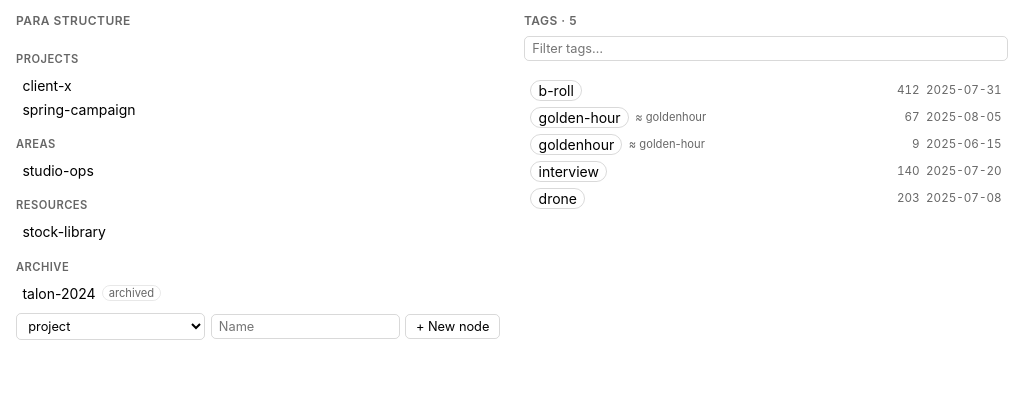
Test: a refused merge renders the service's own remedy, verbatim
Click the button "goldenhour ≈ golden-hour 9 2025-06-15".
click(576, 144)  # box [524,131,1008,158]
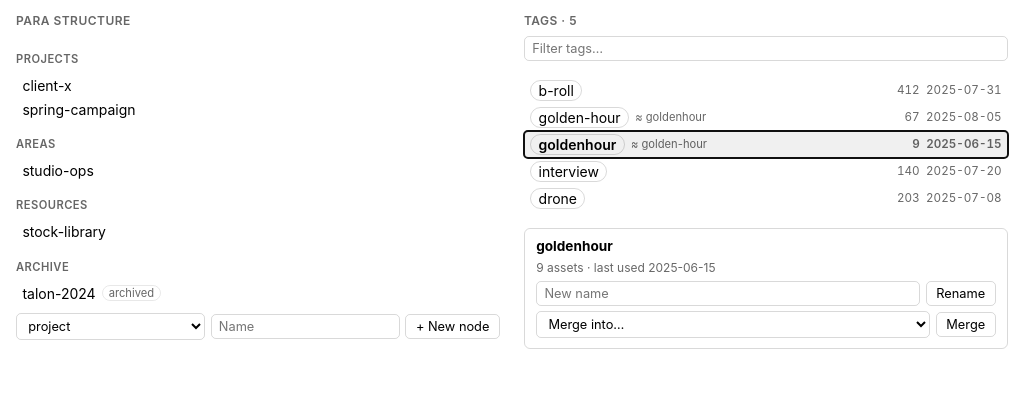
Select "golden-hour" in the dropdown named "Merge into" at x=733, y=325, box [536,311,930,338]
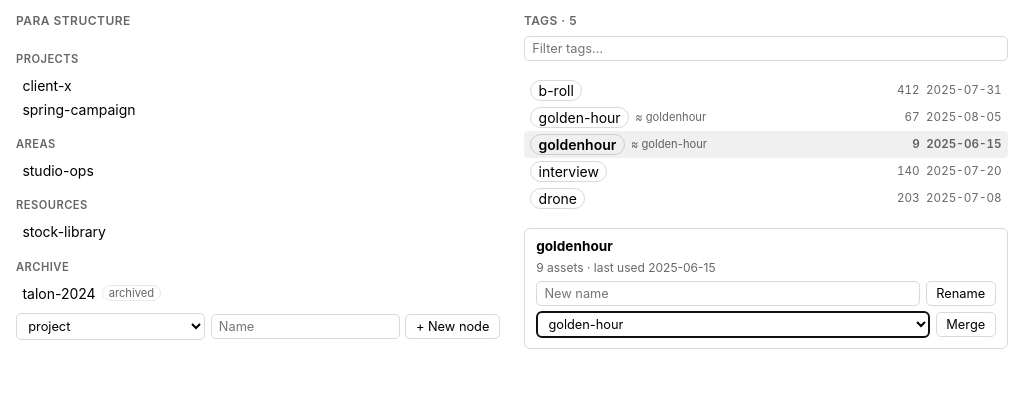
Click the button "Merge".
click(966, 325)  # box [936,312,996,337]
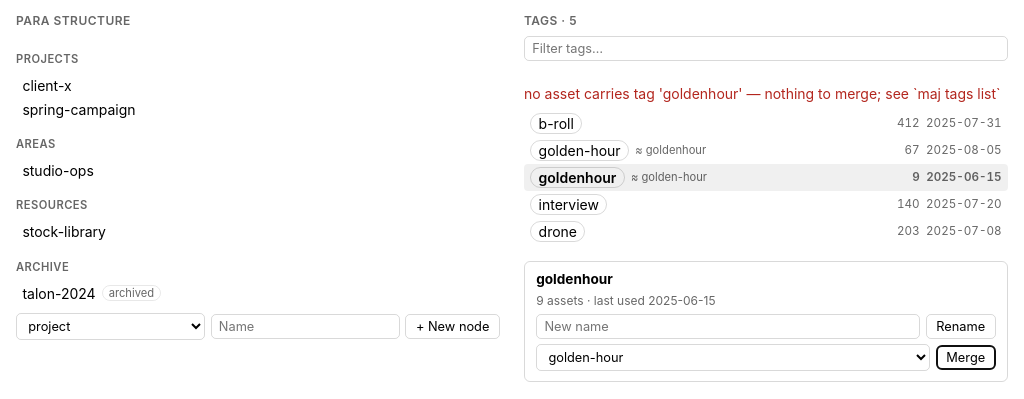
Expected: the message reads "no asset carries tag 'goldenhour' — nothing to merge; see `maj tags list`", [524,85,1001,102]
